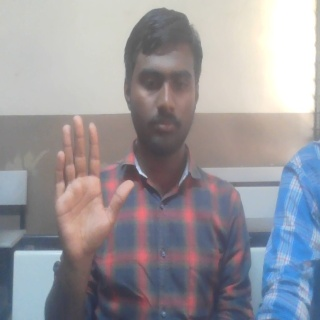Face: (121, 5, 204, 156)
Hello: (50, 114, 136, 258)
